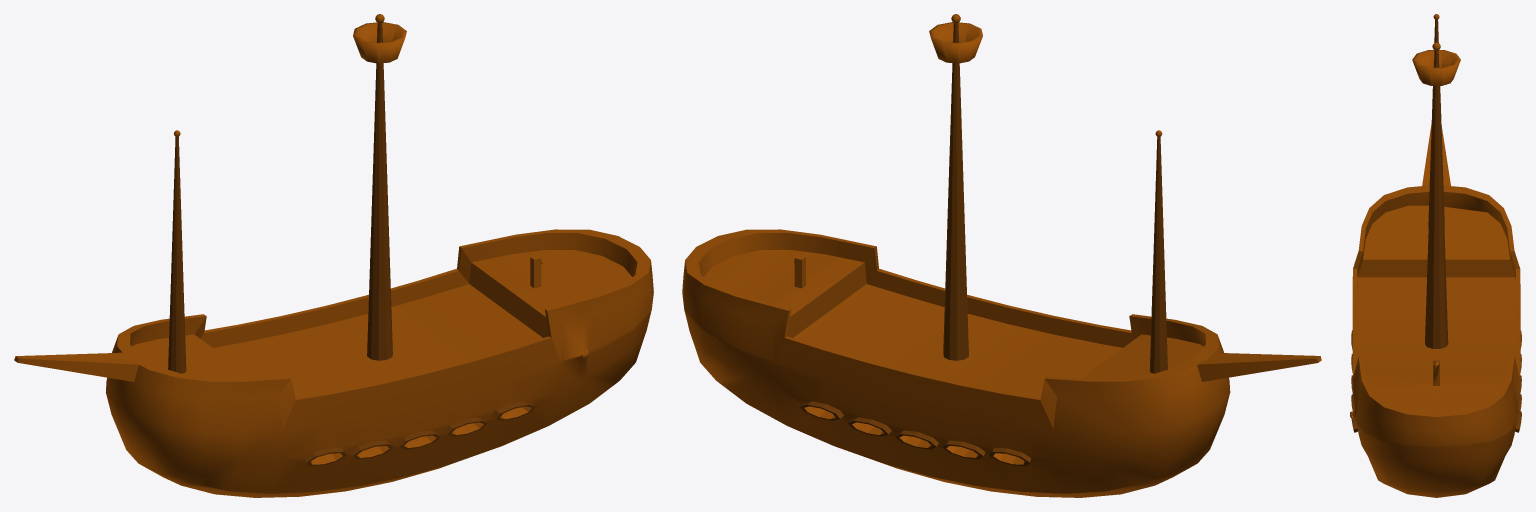
The model's file is Barco sin velas.fbx.
3 renders of one model, left to right at view 1: azimuth 30°, elevation 25°; view 2: azimuth 150°, elevation 25°; view 3: azimuth 270°, elevation 25°, orthographic. The views are drawn at different scales.
Parts seen in each view (by area): view 1: Cube, Circle, Circle.001, Cylinder; view 2: Cube, Circle, Circle.001, Cylinder; view 3: Cube, Circle, Cylinder, Circle.001.
Part boxes in pixels (<box>): Cube: <box>14,229,653,497</box>; Circle: <box>367,23,392,360</box>; Circle.001: <box>168,136,186,373</box>; Cylinder: <box>353,22,406,63</box>; Cube: <box>682,229,1321,497</box>; Circle: <box>943,23,968,360</box>; Circle.001: <box>1149,136,1167,373</box>; Cylinder: <box>929,22,982,63</box>; Cube: <box>1350,124,1521,497</box>; Circle: <box>1425,50,1448,348</box>; Cylinder: <box>1412,50,1460,85</box>; Circle.001: <box>1428,19,1444,226</box>.
Bounding box in the file's own units: 698 × 488 × 188.
